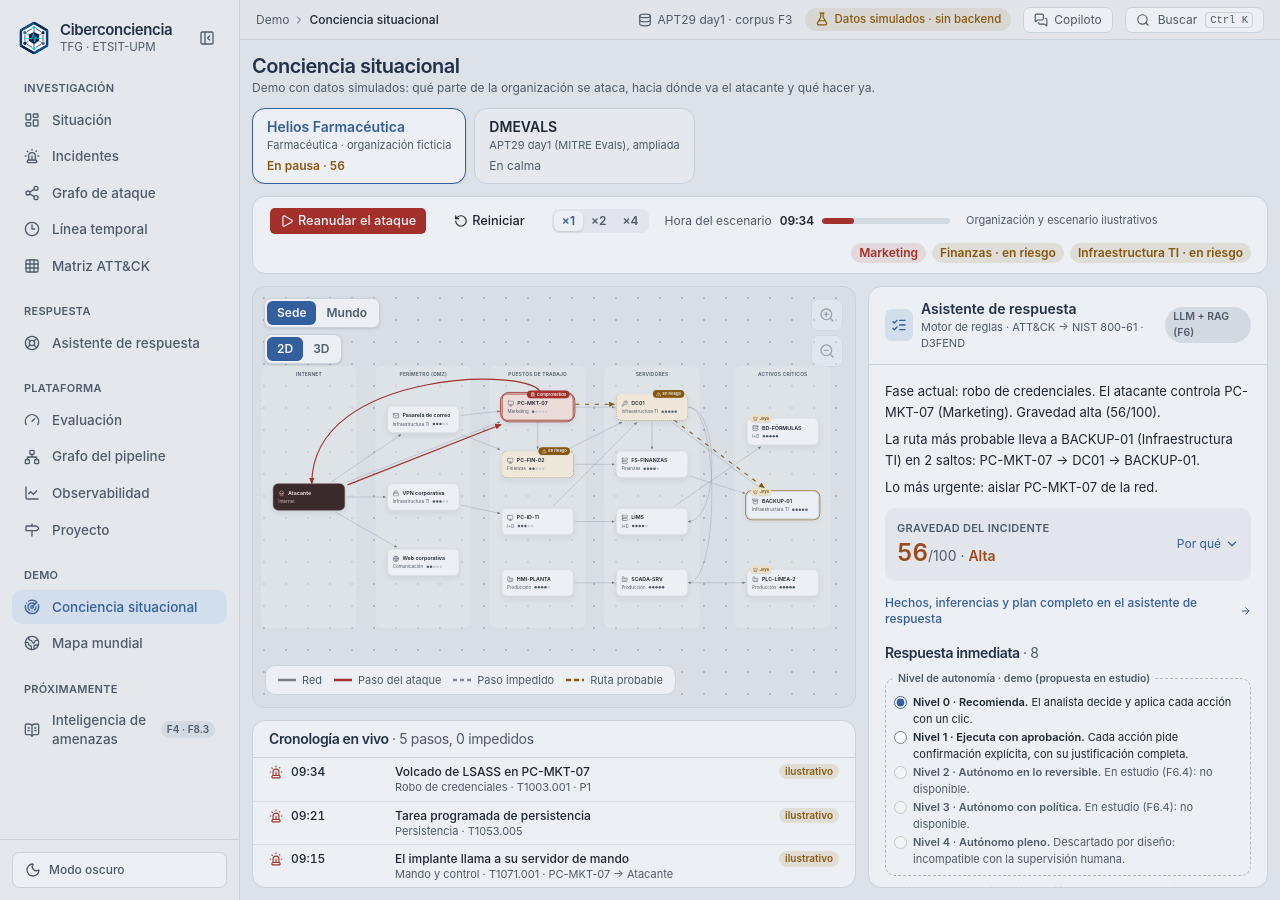
Test case: asistente: hechos, inferencias, recomendaciones y autonomía (demo) › en nivel 1 pide confirmación explícita antes de aplicar, y los niveles 2 a 4 no se pueden elegir
Click the radio button labelled "Nivel 1" at {"x": 900, "y": 738}, box top-left (894, 731), bottom-right (907, 744)
(page scrolled)
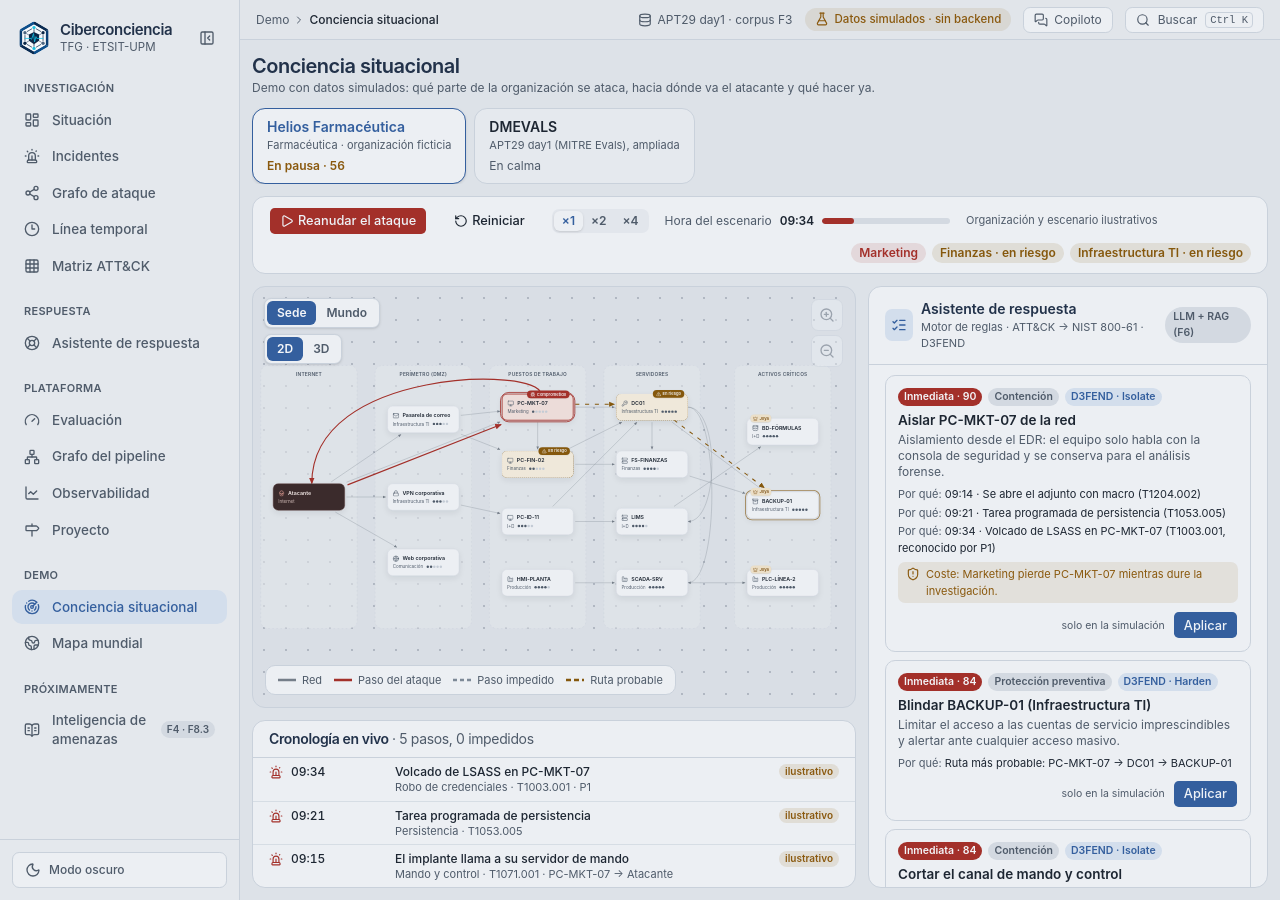
Click the button "Aplicar" below "90" at {"x": 1205, "y": 625}, box top-left (1173, 611), bottom-right (1238, 639)
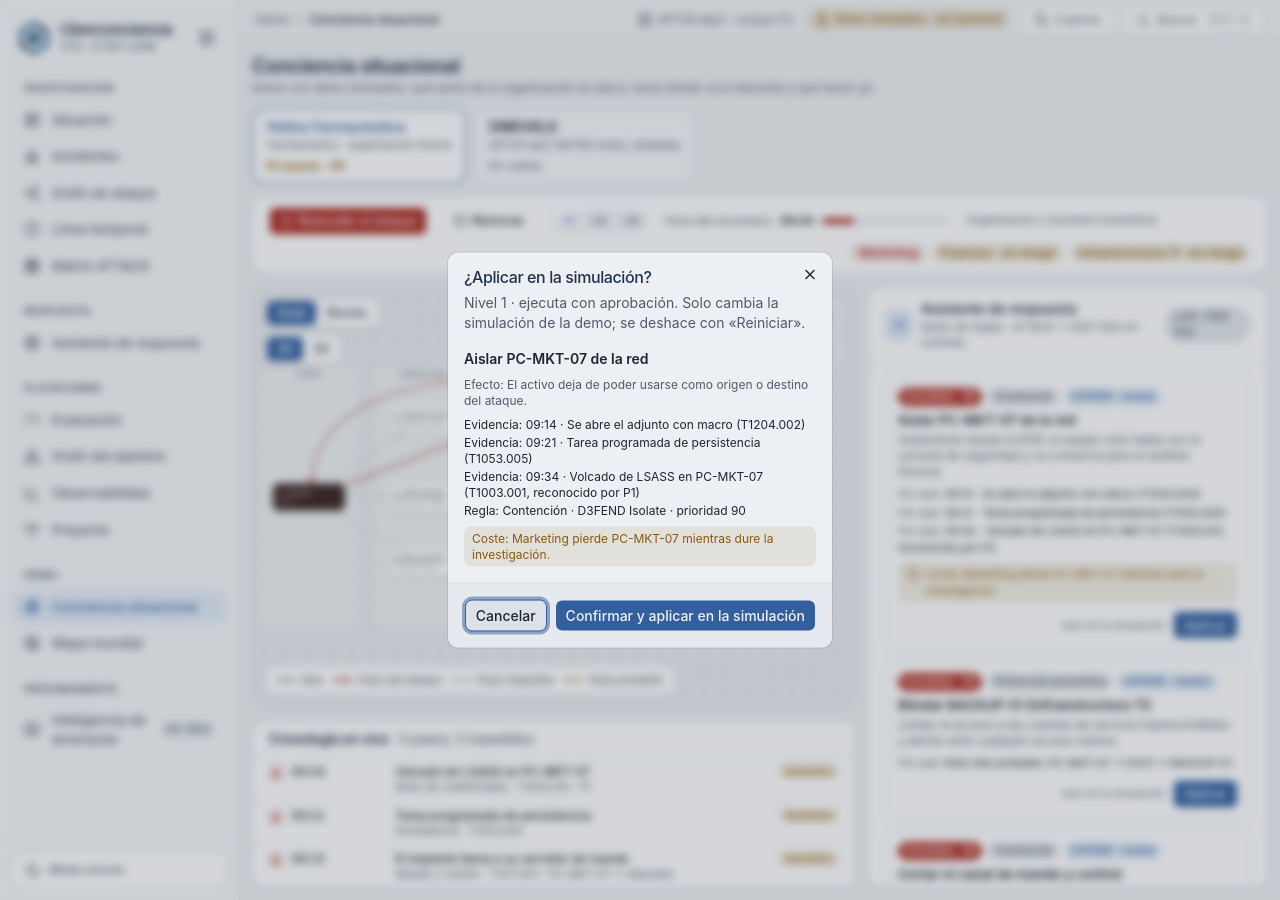
Click the button "Confirmar y aplicar en la simulación" at {"x": 685, "y": 616}, box top-left (555, 600), bottom-right (816, 632)
(page scrolled)
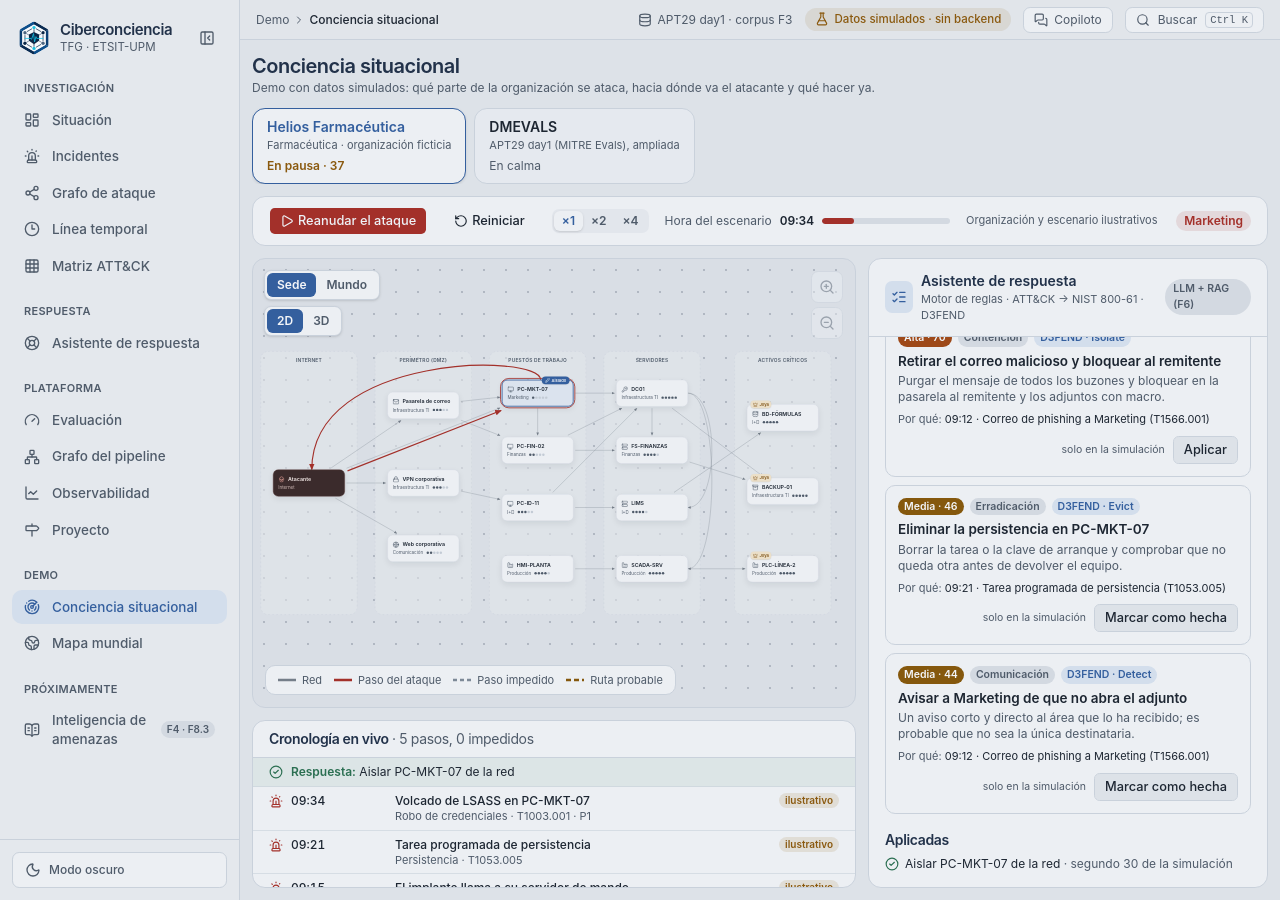
Now the element named "Acciones aplicadas" is shown, box top-left (885, 830), bottom-right (1251, 872)
